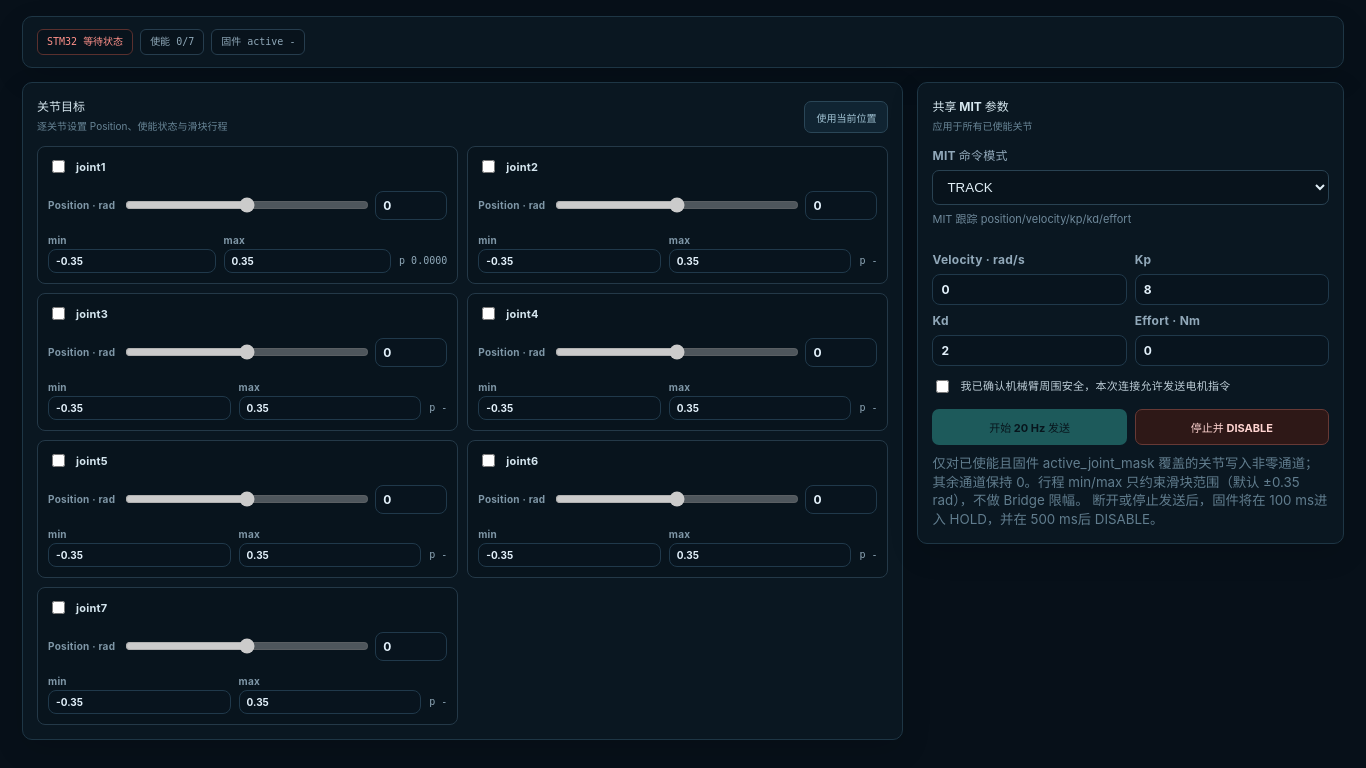
Scenario: MotorControl › rejects out-of-range effort and empty enable set before sending
The image size is (1366, 768).
Click the checkbox named "安全确认" at [943, 386], box x1=936 y1=380 x2=950 y2=393
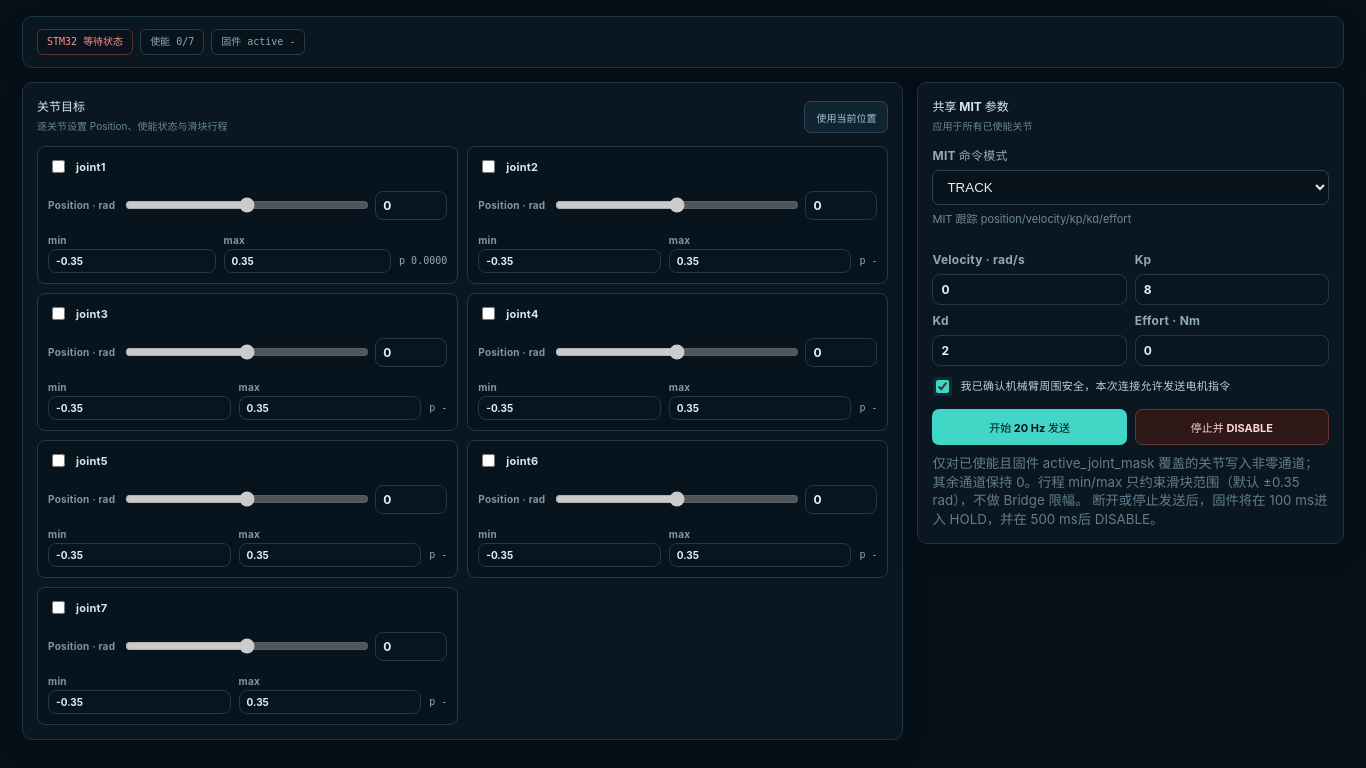
Click the button "开始 20 Hz 发送" at [1030, 427], box x1=932 y1=409 x2=1127 y2=445
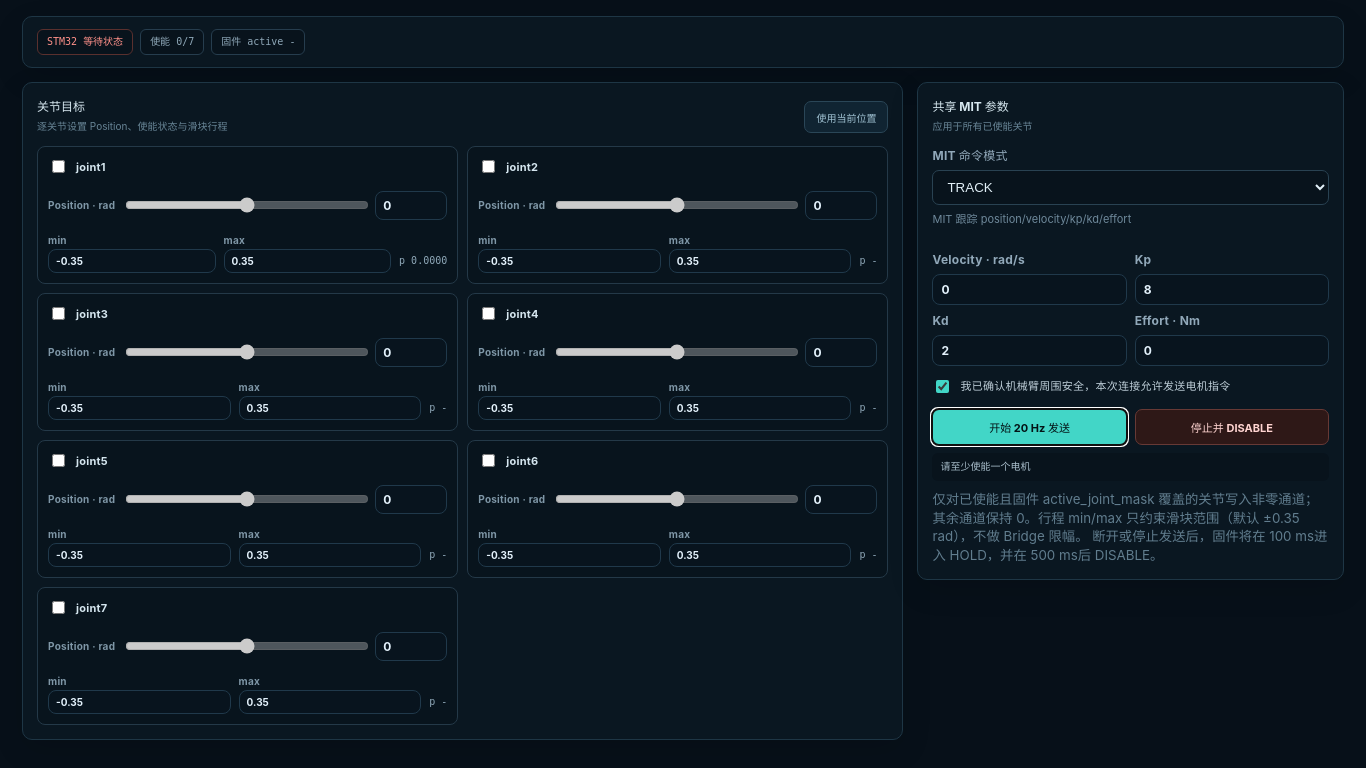
Expected: the text "请至少使能一个电机" is shown, x1=932 y1=453 x2=1329 y2=481
Click the checkbox named "joint1 使能" at [58, 166], box x1=52 y1=160 x2=65 y2=173
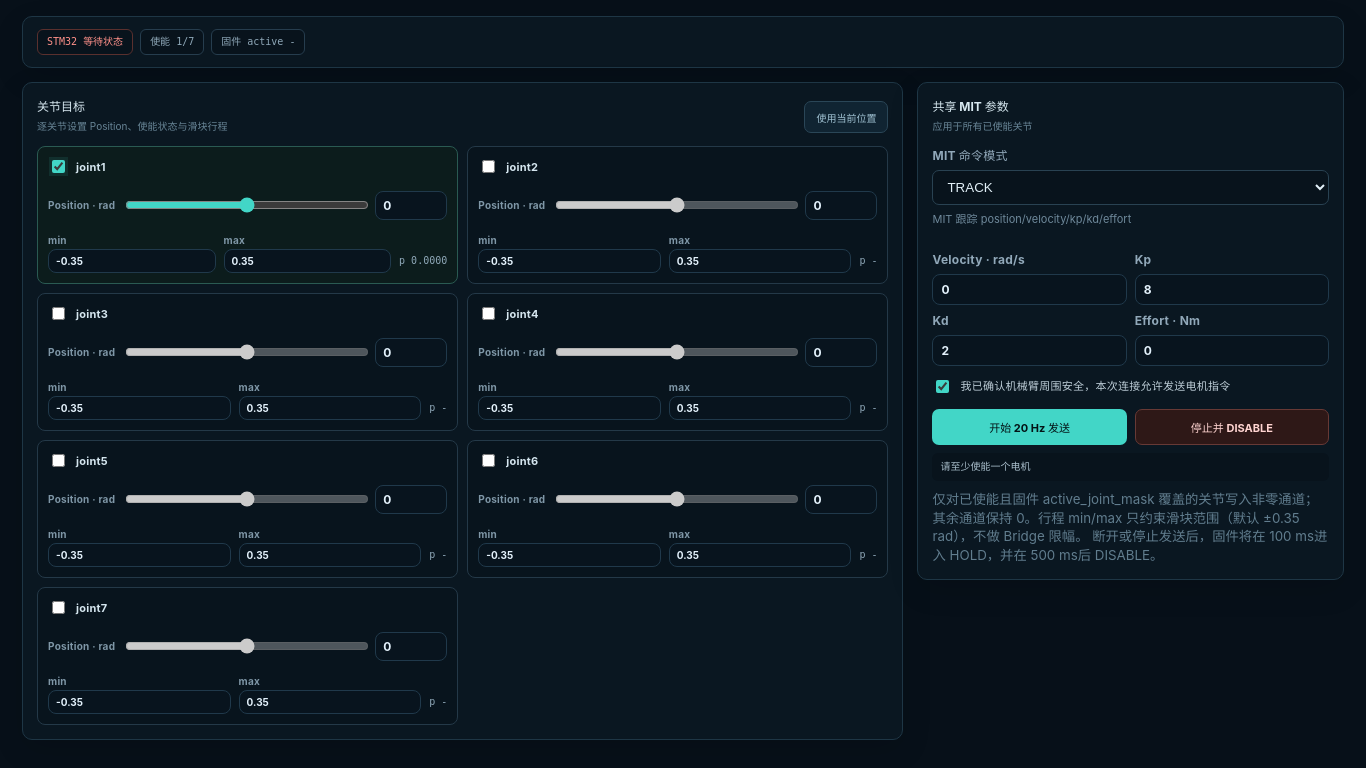
Replace the text in the field labelled "Effort · Nm" with "1.1" at [1232, 350], box x1=1135 y1=335 x2=1329 y2=366
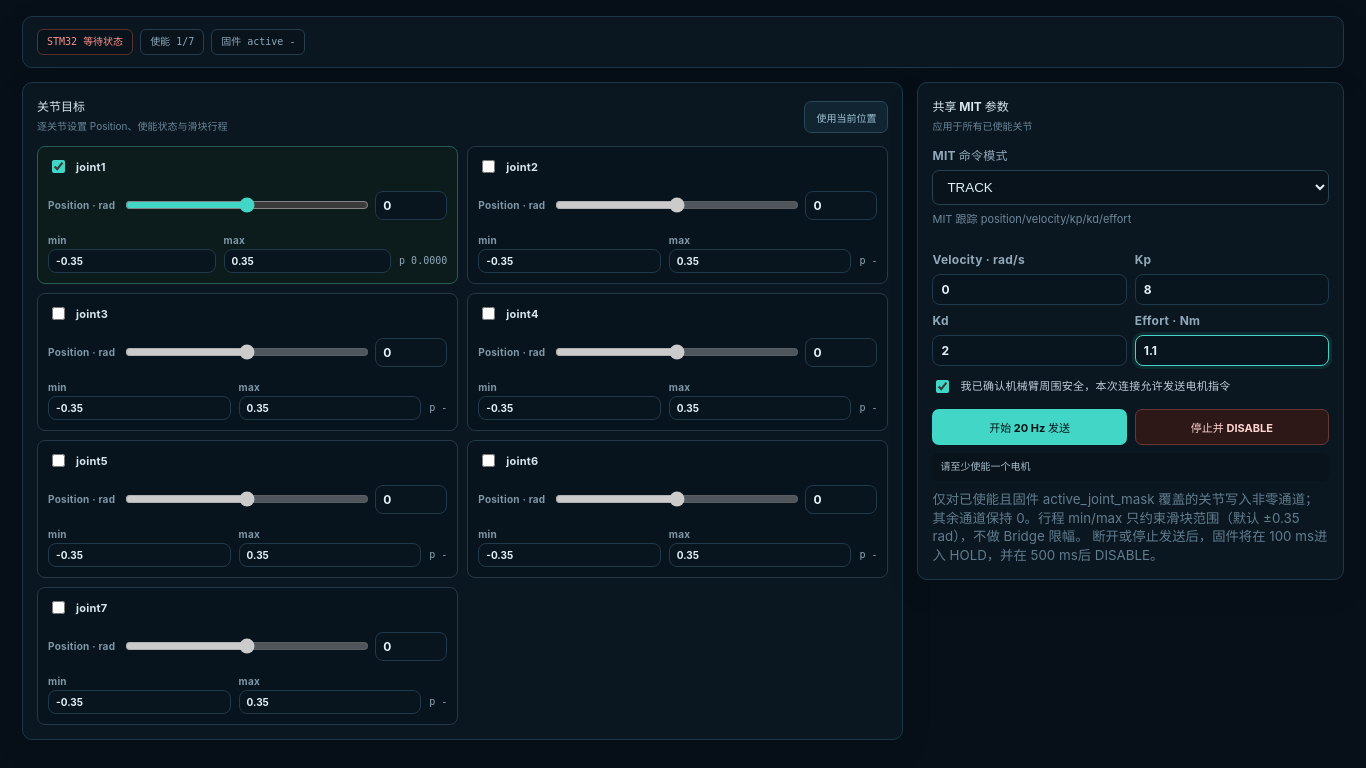
Click the button "开始 20 Hz 发送" at [1030, 427], box x1=932 y1=409 x2=1127 y2=445
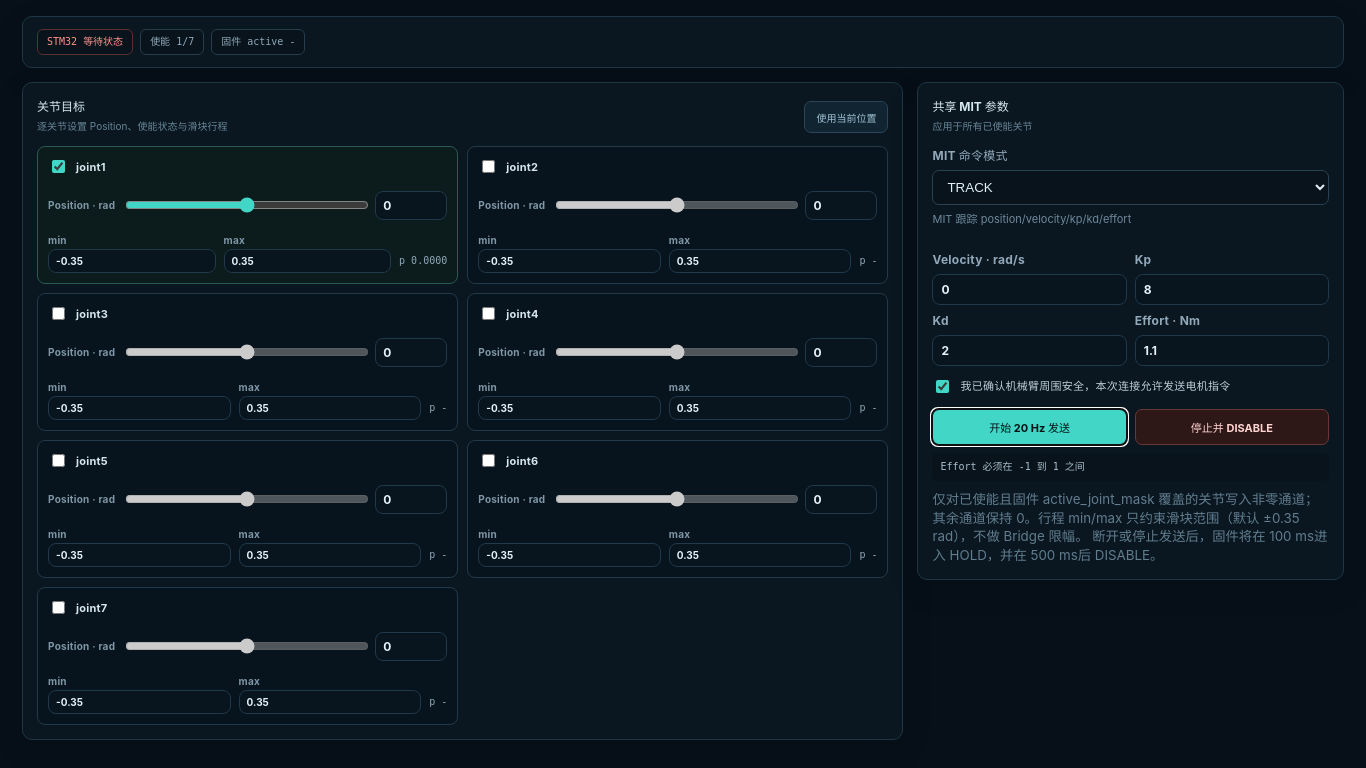
Expected: the text "Effort 必须在 -1 到 1 之间" is shown, x1=932 y1=453 x2=1329 y2=481
